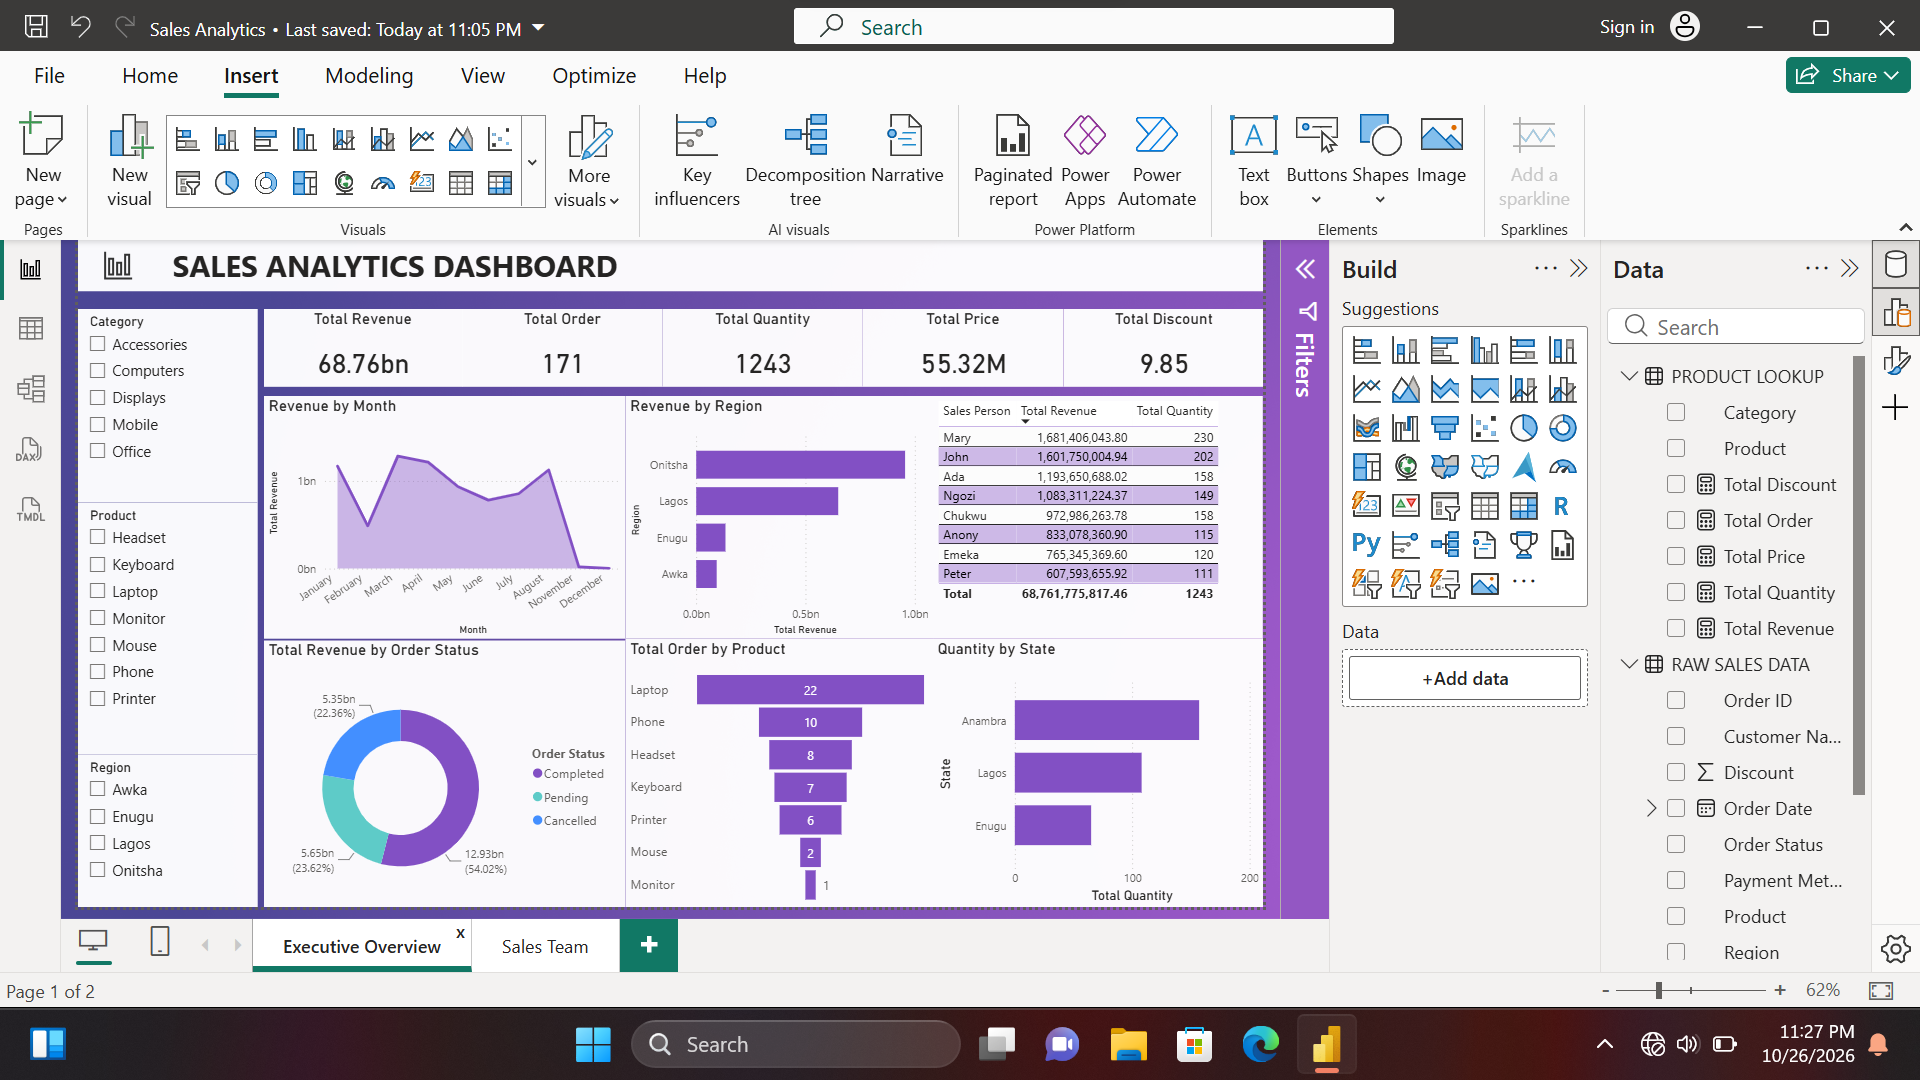

What the dashboard file says about the page in this screenshot:
{"tool":"powerbi","page":{"name":"Executive Overview","canvas":[1280,720],"ordinal":0},"visuals":[{"type":"textbox","box":[0,0,1280.7,55.6],"z":0},{"type":"card","title":"Total Discount","fields":{"Values":["PRODUCT LOOKUP.Total Discount"]},"box":[1063.8,74.5,217,84.2],"z":1000},{"type":"card","title":"Total Revenue","fields":{"Values":["PRODUCT LOOKUP.Total Revenue"]},"box":[200.8,74.5,213.7,84.2],"z":2000},{"type":"card","title":"Total Order","fields":{"Values":["PRODUCT LOOKUP.Total Order"]},"box":[414.5,74.5,217,84.2],"z":3000},{"type":"card","title":"Total Price","fields":{"Values":["PRODUCT LOOKUP.Total Price"]},"box":[846.9,74.5,217,84.2],"z":4000},{"type":"card","title":"Total Quantity","fields":{"Values":["PRODUCT LOOKUP.Total Quantity"]},"box":[631.5,74.5,215.4,84.2],"z":5000},{"type":"slicer","fields":{"Values":["PRODUCT LOOKUP.Category"]},"box":[0,74.5,194.3,208.9],"z":6000},{"type":"slicer","fields":{"Values":["RAW SALES DATA.Product"]},"box":[0,283.4,194.3,272],"z":7000},{"type":"slicer","fields":{"Values":["RAW SALES DATA.Region"]},"box":[0,555.4,194.3,165.2],"z":8000},{"type":"lineChart","fields":{"Category":["RAW SALES DATA.Order Date.Variation.Date Hierarchy.Quarter"],"Y":["PRODUCT LOOKUP.Total Revenue"]},"box":[0,0,85.8,55.1],"z":11000},{"type":"areaChart","title":"Revenue by Month","fields":{"Category":["RAW SALES DATA.Order Date.Variation.Date Hierarchy.Month"],"Y":["PRODUCT LOOKUP.Total Revenue"]},"box":[200.8,168.4,390.2,262.3],"z":12000},{"type":"funnel","fields":{"Category":["RAW SALES DATA.Product"],"Y":["PRODUCT LOOKUP.Total Order"]},"box":[591,430.7,331.9,289.8],"z":13000},{"type":"clusteredBarChart","title":"Revenue by Region","fields":{"Category":["RAW SALES DATA.Region"],"Y":["PRODUCT LOOKUP.Total Revenue"]},"box":[591,168.4,331.9,262.3],"z":14000},{"type":"clusteredBarChart","title":"Quantity by State","fields":{"Category":["REGION LOOKUP.State"],"Y":["PRODUCT LOOKUP.Total Quantity"]},"box":[923,430.7,356.5,289.6],"z":15000},{"type":"tableEx","fields":{"Values":["RAW SALES DATA.Sales Person","PRODUCT LOOKUP.Total Revenue","PRODUCT LOOKUP.Total Quantity"]},"box":[923,168.4,356.2,262.3],"z":16000},{"type":"donutChart","fields":{"Category":["RAW SALES DATA.Order Status"],"Y":["PRODUCT LOOKUP.Total Revenue"]},"box":[200.8,432.3,390.2,288.2],"z":16001}]}

Visuals, with their boxes on the page's 1280x720 design canvas (x1, y1, x2, y2). These are canvas units, not pixel positions in the 1920x1080 screenshot, which may show the page scaled, cropped or inside an application window:
textbox: 0 0 1281 56
"Total Discount" card: 1064 74 1281 159
"Total Revenue" card: 201 74 414 159
"Total Order" card: 414 74 632 159
"Total Price" card: 847 74 1064 159
"Total Quantity" card: 632 74 847 159
slicer - PRODUCT LOOKUP.Category: 0 74 194 283
slicer - RAW SALES DATA.Product: 0 283 194 555
slicer - RAW SALES DATA.Region: 0 555 194 721
lineChart - RAW SALES DATA.Order Date.Variation.Date Hierarchy.Quarter x PRODUCT LOOKUP.Total Revenue: 0 0 86 55
"Revenue by Month" areaChart: 201 168 591 431
funnel - RAW SALES DATA.Product x PRODUCT LOOKUP.Total Order: 591 431 923 720
"Revenue by Region" clusteredBarChart: 591 168 923 431
"Quantity by State" clusteredBarChart: 923 431 1280 720
tableEx - RAW SALES DATA.Sales Person x PRODUCT LOOKUP.Total Revenue: 923 168 1279 431
donutChart - RAW SALES DATA.Order Status x PRODUCT LOOKUP.Total Revenue: 201 432 591 720
